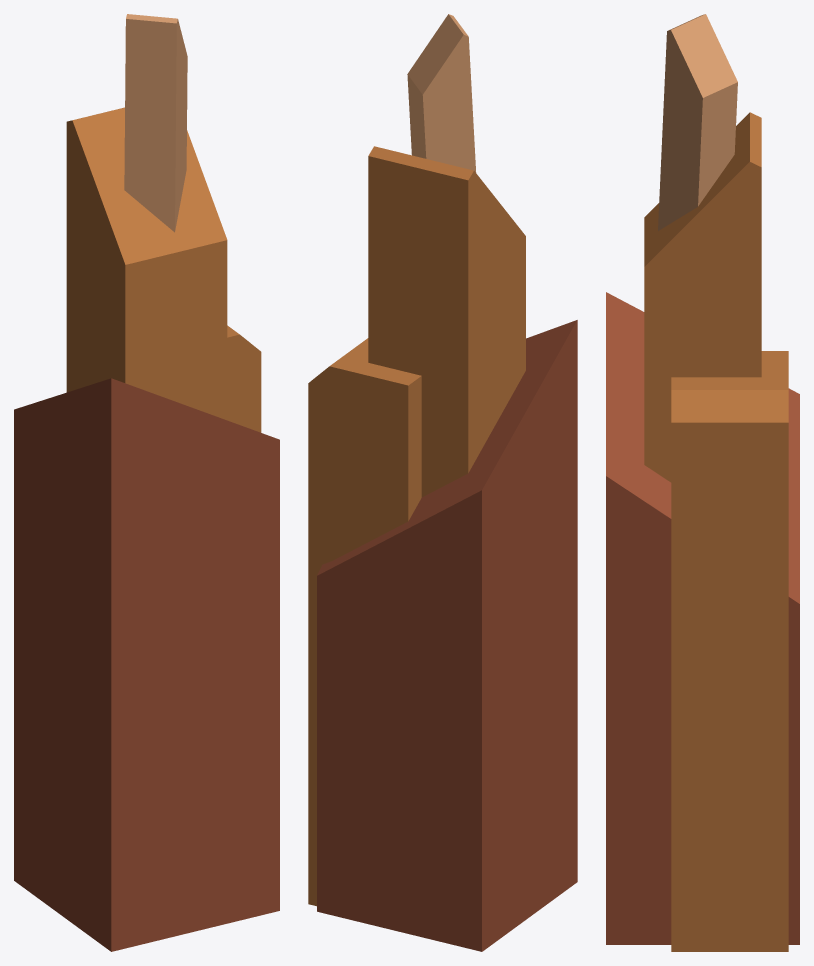
File: desert_pillar.fbx
3 views of the same model, side by side, from view 1: azimuth 30°, elevation 25°; view 2: azimuth 150°, elevation 25°; view 3: azimuth 270°, elevation 25° (orthographic). The views are drawn at different scales.
Parts seen in each view (by area): view 1: pCube6; view 2: pCube6; view 3: pCube6.
Boxes of the visible parts, left/top/right/bottom form: pCube6: left=14, top=14, right=279, bottom=951; pCube6: left=308, top=14, right=577, bottom=951; pCube6: left=606, top=14, right=799, bottom=951.
Bounding box in the file's own units: 0.0534 × 0.2473 × 0.0493.
